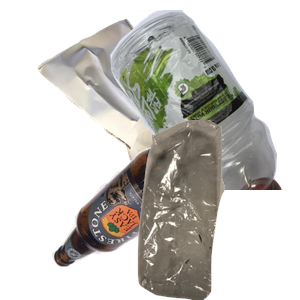glass: (49, 145, 229, 300)
paper: (35, 10, 237, 178)
plastic: (73, 10, 300, 190)
trash: (114, 120, 300, 300)
